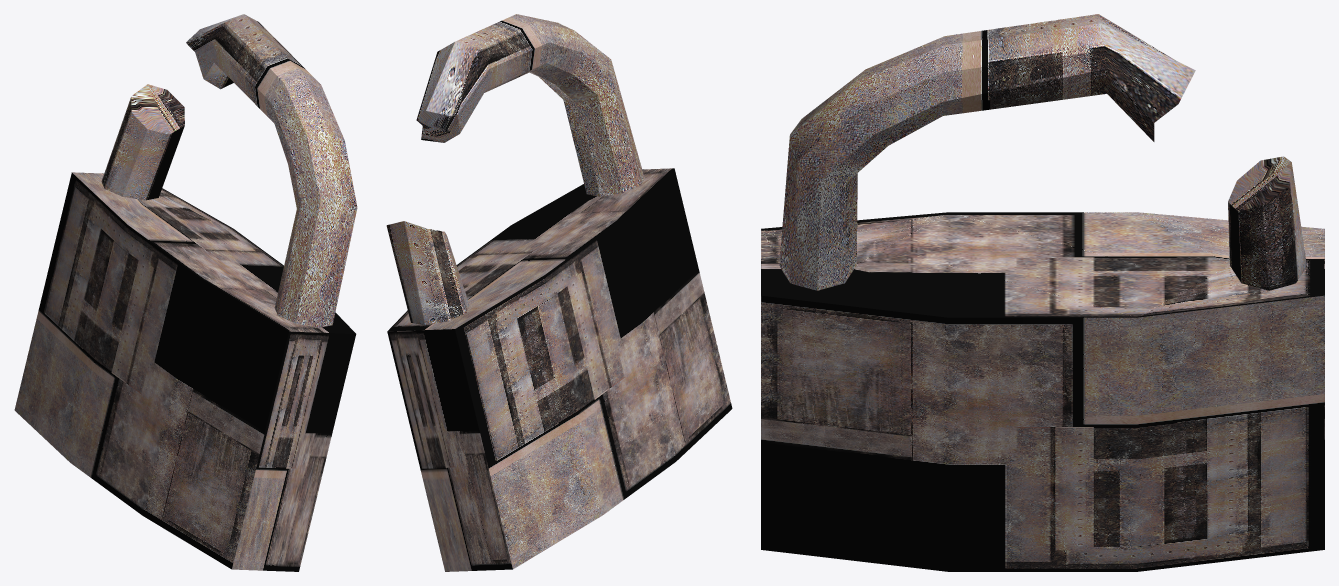
File: object_lockopen01.dae
The picture shows the model from 3 angles, left to right: view 1: azimuth 30°, elevation 25°; view 2: azimuth 150°, elevation 25°; view 3: azimuth 270°, elevation 25°; orthographic projection. The views are drawn at different scales.
Visible parts, largest first — view 1: lockopen1; view 2: lockopen1; view 3: lockopen1.
Part boxes in pixels (box(x1,y1,x2,y2)): lockopen1: box(14, 14, 357, 571); lockopen1: box(386, 14, 732, 571); lockopen1: box(761, 14, 1324, 571).
Size of what is drawn, in the model's own units: 0.0323 by 0.0775 by 0.0679.
